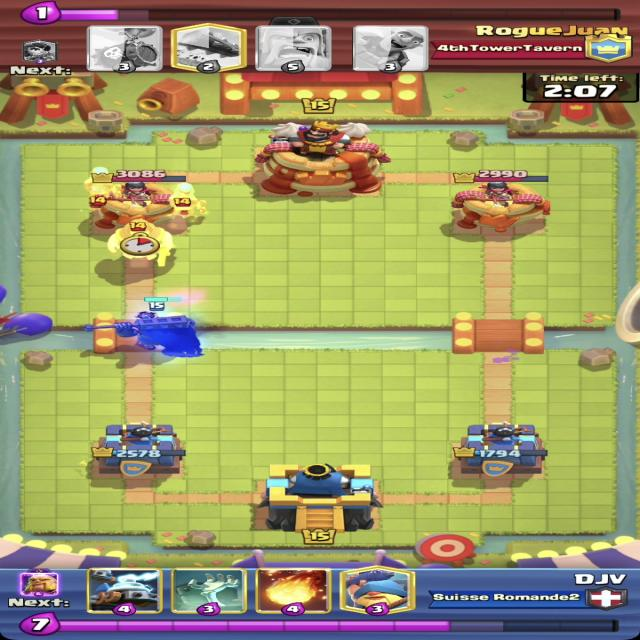Enemy-RascalBoy: (106, 218, 176, 268)
Enemy-RascalGirl: (168, 182, 210, 220), (85, 165, 120, 208)
Player-SkeletonKing: (83, 297, 206, 358)
